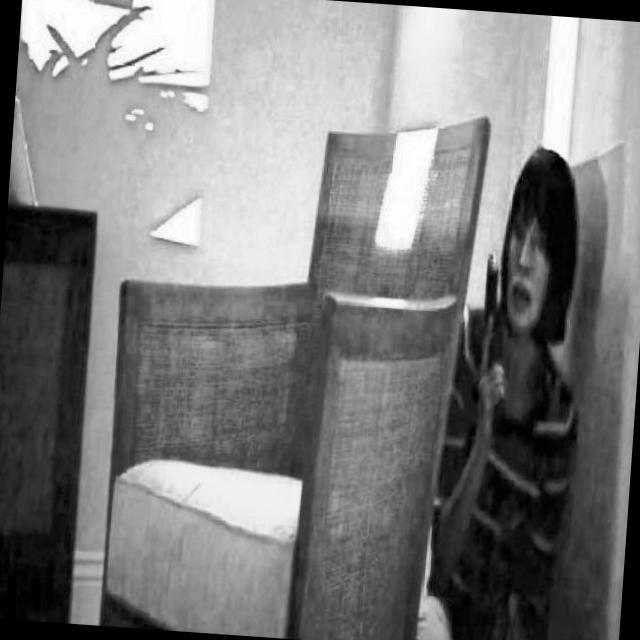Person: (416, 135, 603, 640)
